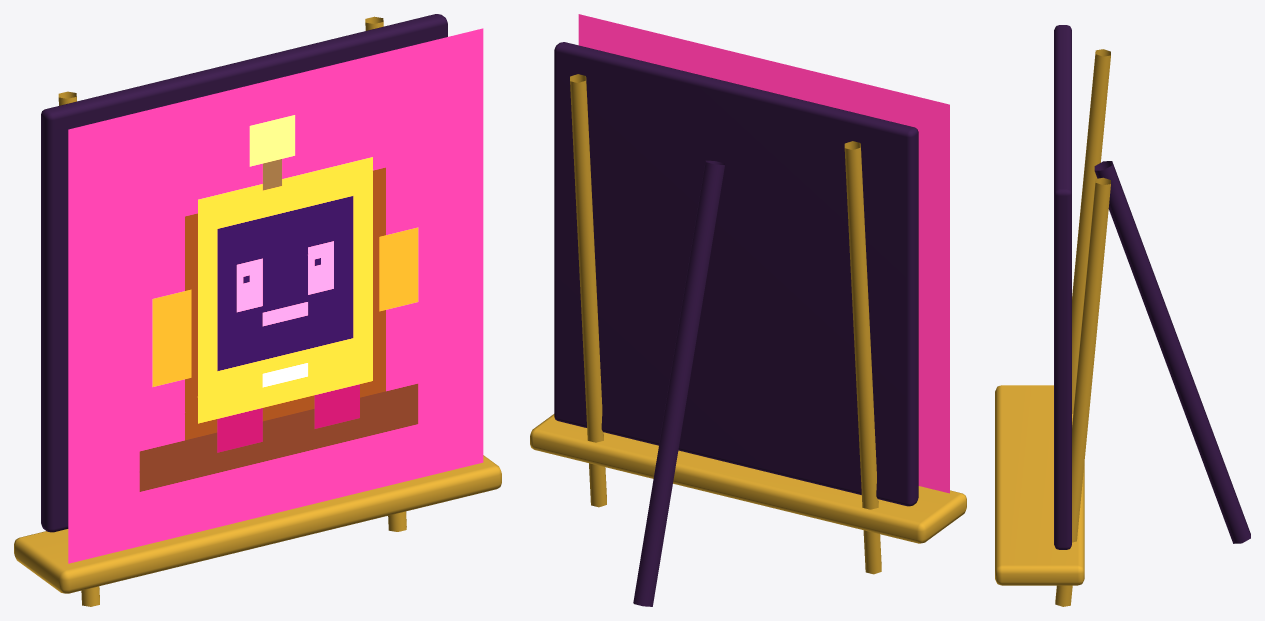
The model's file is profile.avatar.emi-pixel.glb.
3 renders of one model, left to right at view 1: azimuth 30°, elevation 25°; view 2: azimuth 150°, elevation 25°; view 3: azimuth 270°, elevation 25°, orthographic. The views are drawn at different scales.
Parts seen in each view (by area): view 1: artwork, print_support, shelf_lip; view 2: print_support, artwork, shelf_lip, back_leg, easel_leg, easel_leg.001; view 3: shelf_lip, print_support, back_leg, easel_leg.001, easel_leg.
Boxes of the visible parts, x1,y1,x2,y2 form: artwork: (68, 28, 483, 563); print_support: (41, 14, 447, 532); shelf_lip: (14, 455, 501, 593); print_support: (554, 42, 918, 506); artwork: (578, 14, 949, 493); shelf_lip: (530, 414, 966, 543); back_leg: (633, 160, 724, 606); easel_leg: (844, 141, 881, 574); easel_leg.001: (570, 74, 606, 507); shelf_lip: (995, 385, 1084, 585); print_support: (1054, 25, 1071, 549); back_leg: (1094, 161, 1250, 543); easel_leg.001: (1055, 177, 1110, 606); easel_leg: (1072, 49, 1110, 413).
Bounding box in the file's own units: 0.6764 × 0.75 × 0.3946.
Materials: 3 (1 with a texture image).
